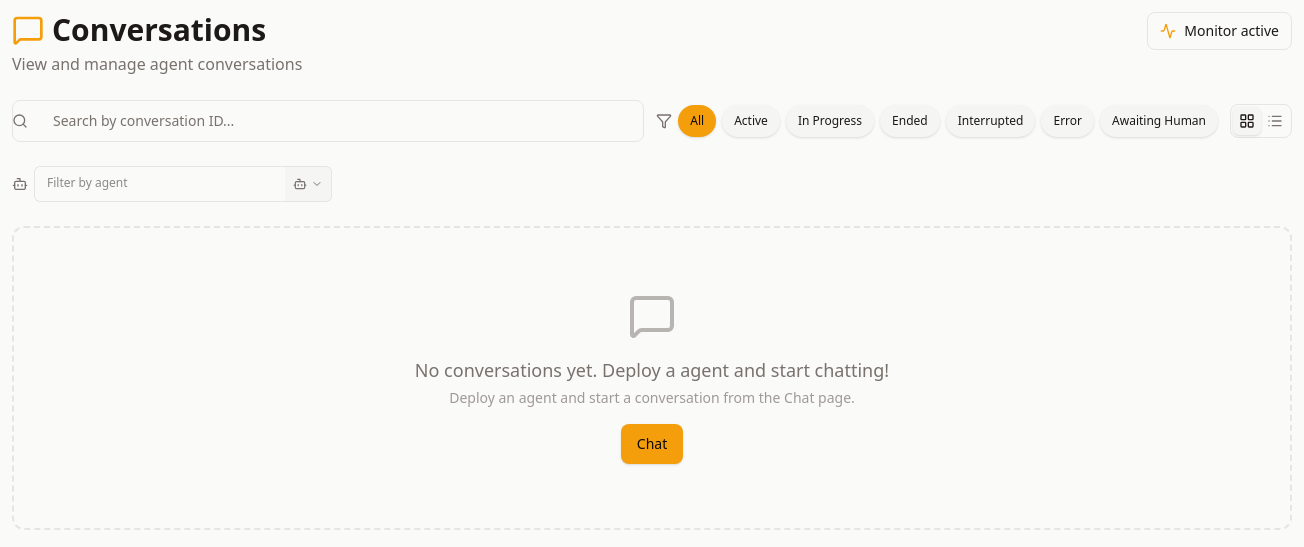
Test case: ConversationsPage › shows 'no results' when search + empty result
The image size is (1304, 547).
Type "nonexistent" into the field with test id "conversation-search" at (328, 121), box [12,100,644,142]
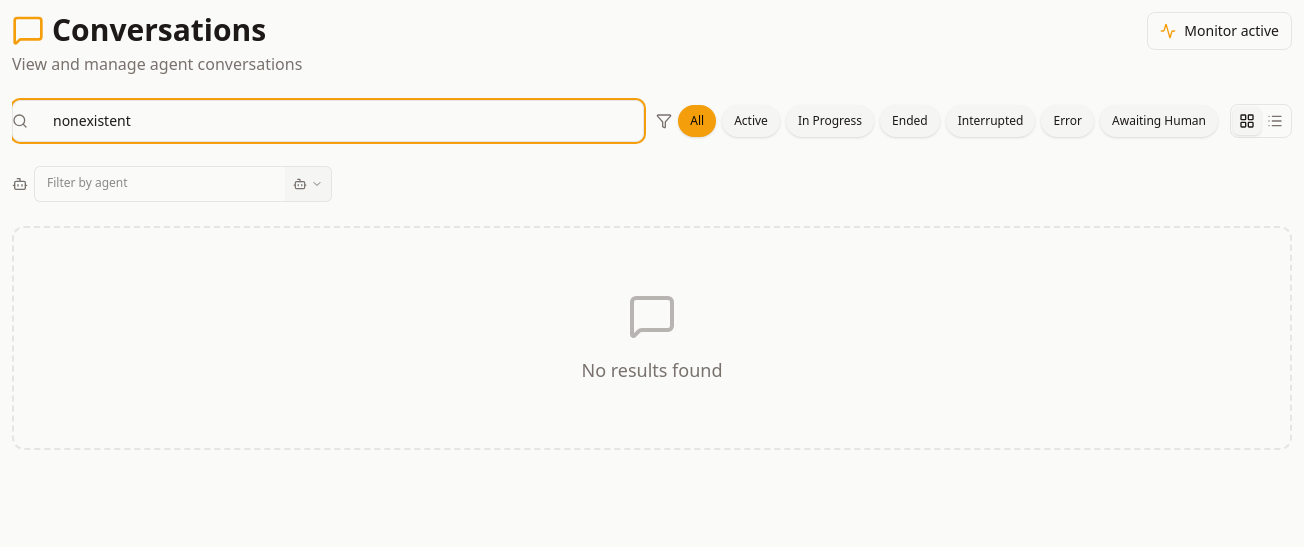
Expected: the text "No results found" is shown, [582,356,723,384]
